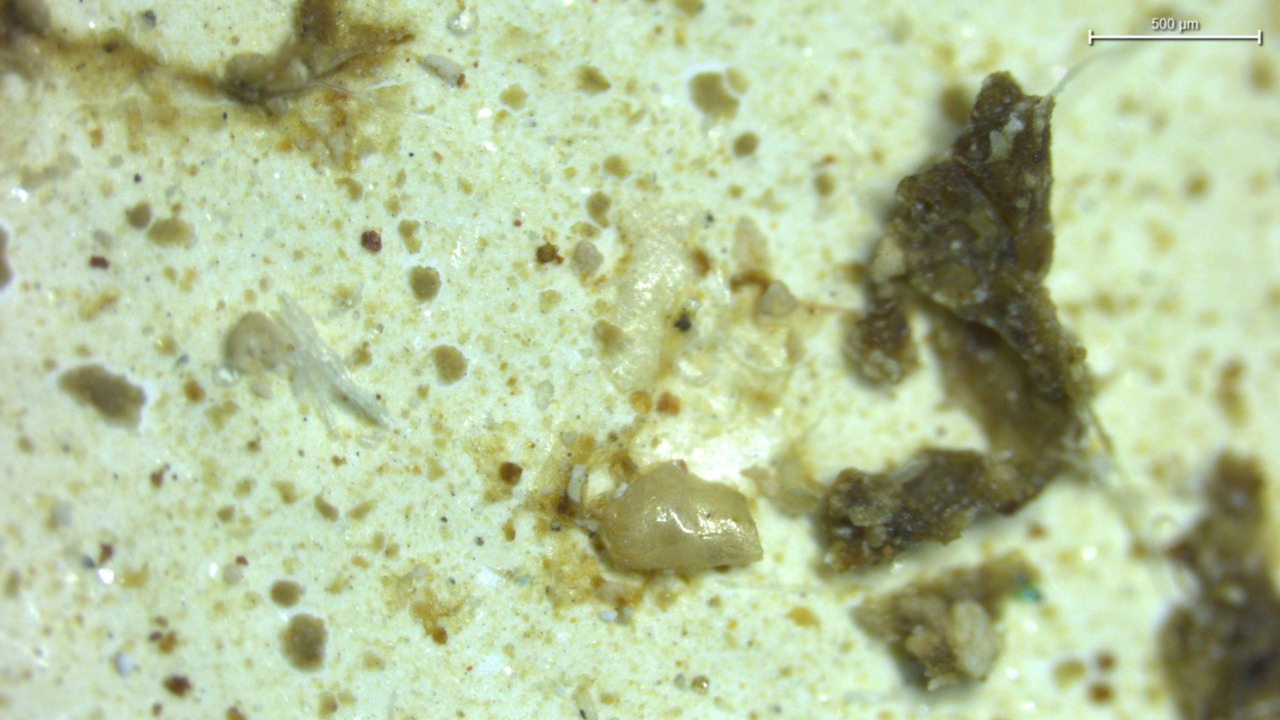microplastic_fragment: (224, 295, 388, 429), (590, 462, 762, 572)
